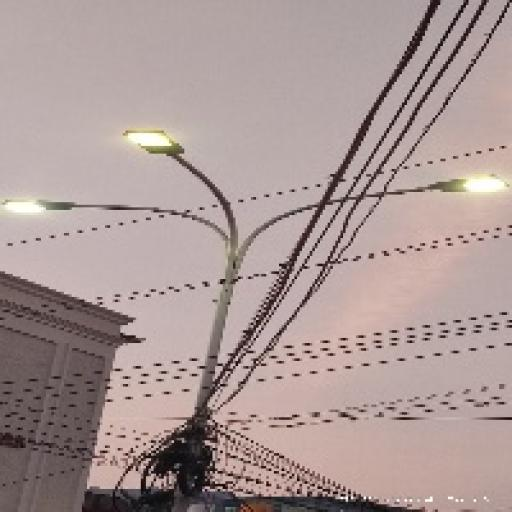Working: (431, 164, 512, 210), (115, 122, 192, 169), (2, 187, 54, 227)
